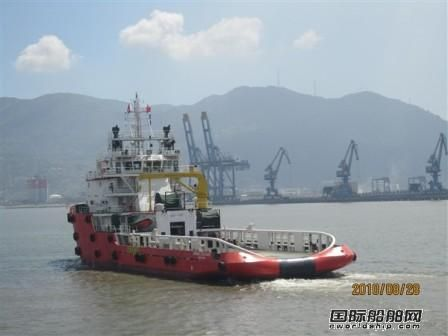otherboat: (53, 91, 360, 278)
